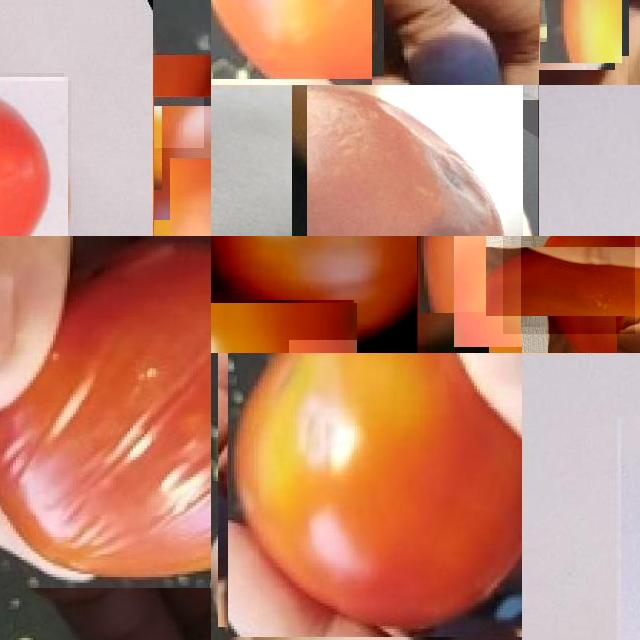0: (211, 0, 372, 85), (539, 0, 622, 63)
1: (0, 236, 211, 588), (307, 85, 539, 236)
Fresh Tomato: (223, 353, 522, 631), (211, 236, 417, 353), (503, 236, 635, 334), (0, 77, 68, 236), (153, 96, 211, 236), (454, 236, 522, 347)
